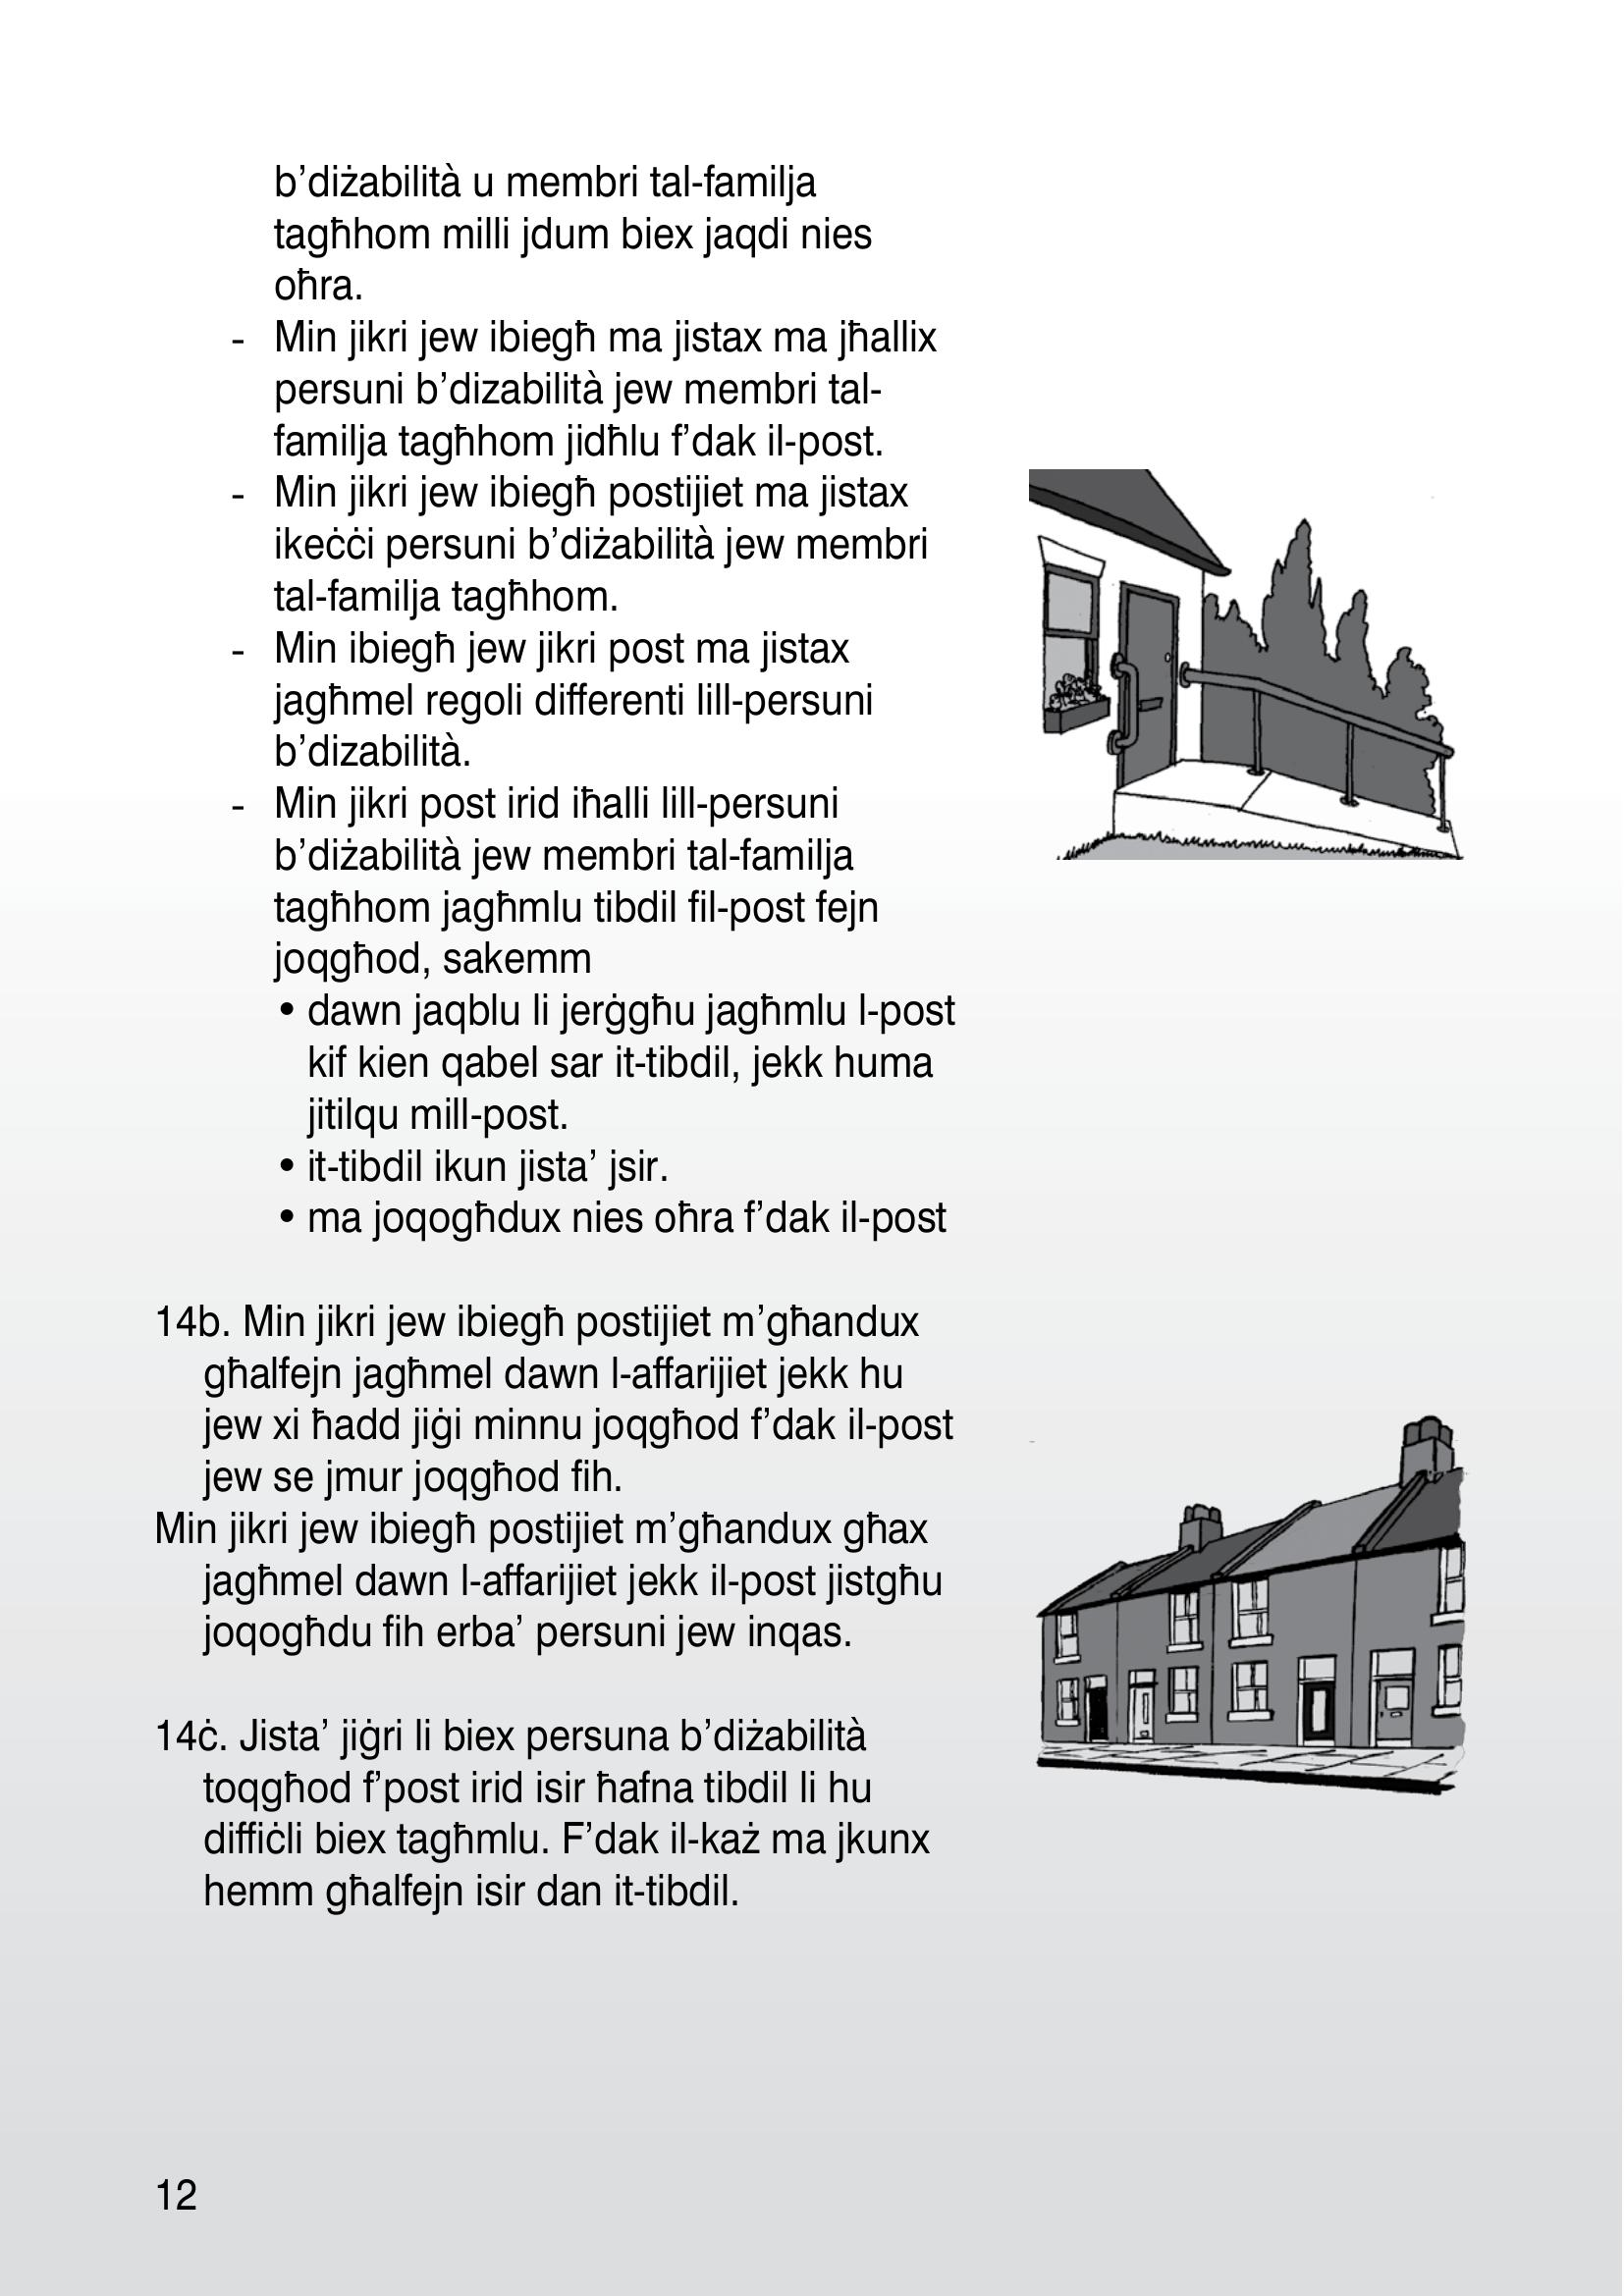text: (130, 123, 982, 1941)
